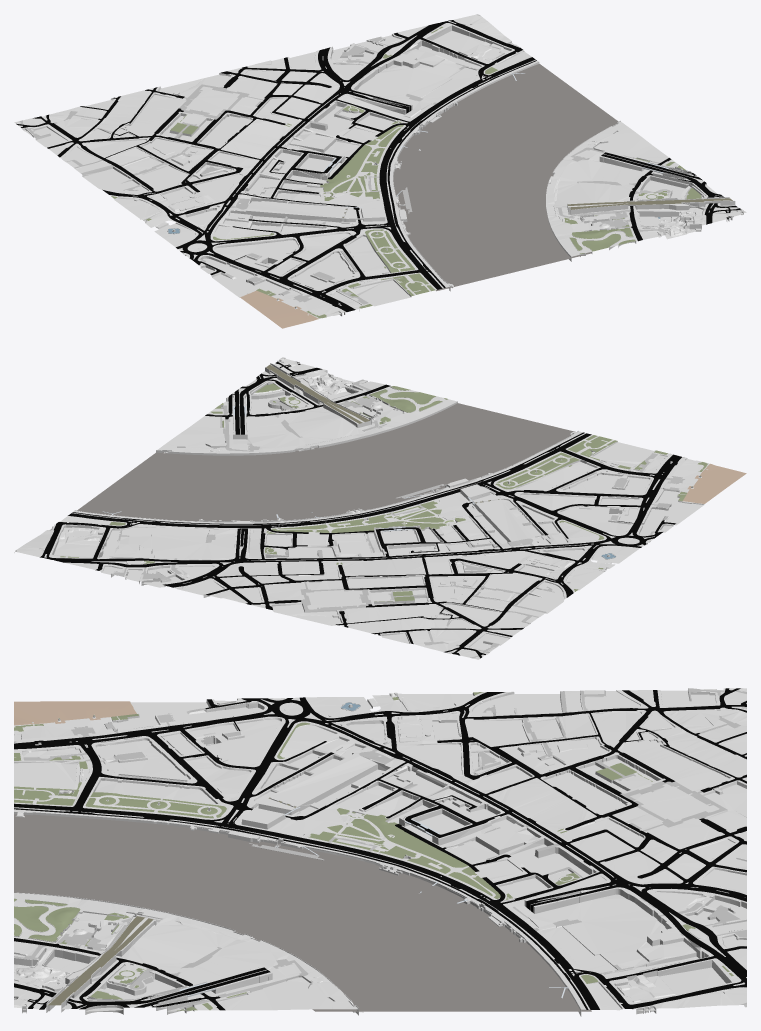
The model's file is TQ3080_Terrain_LOD_1_draco.glb.
The picture shows the model from 3 angles, top to bottom: view 1: azimuth 30°, elevation 25°; view 2: azimuth 150°, elevation 25°; view 3: azimuth 270°, elevation 25°; orthographic projection. The views are drawn at different scales.
Parts seen in each view (by area): view 1: TQ3080_Terrain; view 2: TQ3080_Terrain; view 3: TQ3080_Terrain.
Part boxes in pixels (x1,y1,x2,y2): TQ3080_Terrain: [14, 14, 746, 328]; TQ3080_Terrain: [14, 357, 746, 659]; TQ3080_Terrain: [14, 688, 746, 1016].
Bounding box in the file's own units: 1000 × 38.58 × 1000.
Materials: 1 (1 with a texture image).
